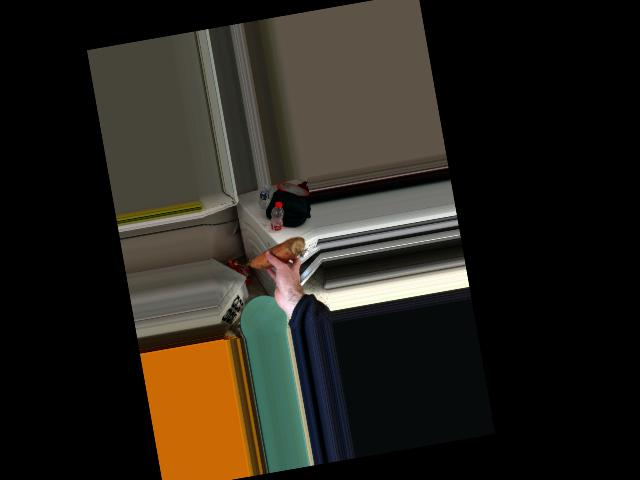sweet_potato: (241, 239, 307, 268)
